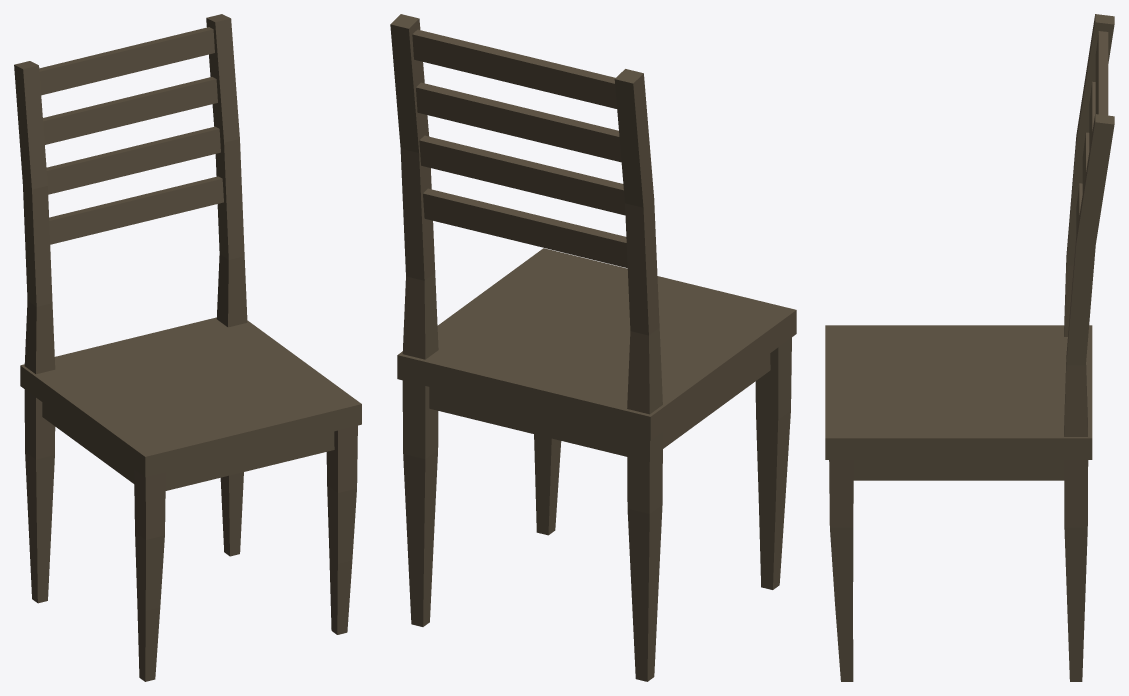
File: Chair_1.glb
The picture shows the model from 3 angles, left to right: view 1: azimuth 30°, elevation 25°; view 2: azimuth 150°, elevation 25°; view 3: azimuth 270°, elevation 25°; orthographic projection. The views are drawn at different scales.
Parts seen in each view (by area): view 1: Chair_1; view 2: Chair_1; view 3: Chair_1.
Boxes of the visible parts, x1,y1,x2,y2 form: Chair_1: (14,14,361,681); Chair_1: (390,14,796,681); Chair_1: (825,14,1114,681).
Bounding box in the file's own units: 0.7617 × 1.77 × 0.8254.
